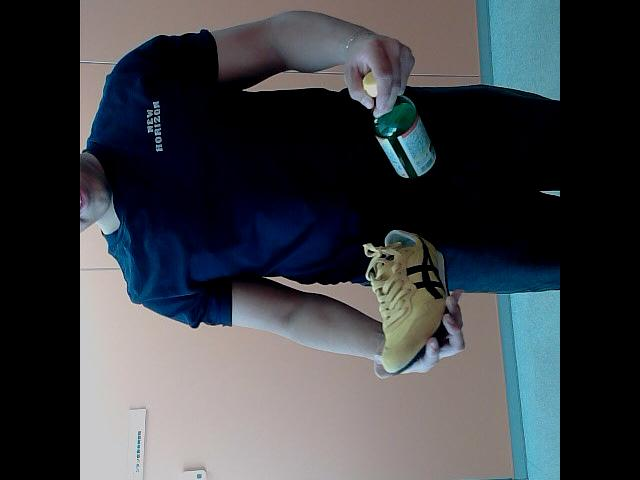Lemon_sapporo: (361, 69, 443, 180)
Shoes: (360, 231, 445, 375)
